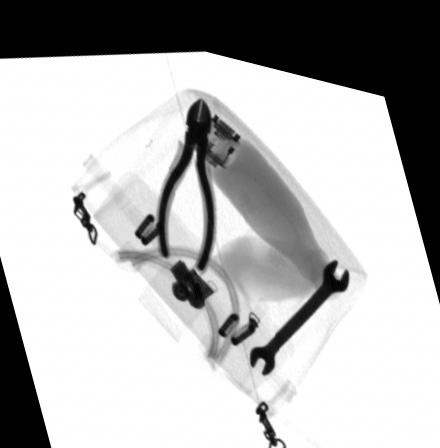Pliers: (156, 86, 214, 263)
Wrench: (250, 243, 349, 362)
